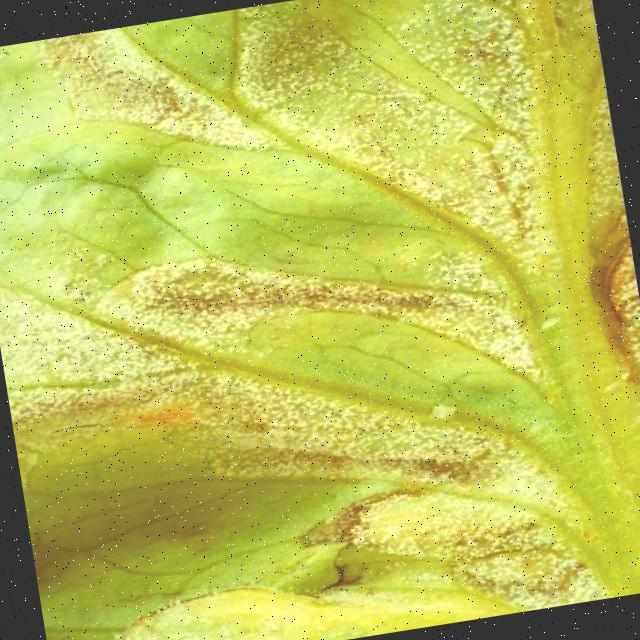Septoria_Blight: (5, 204, 616, 640)
